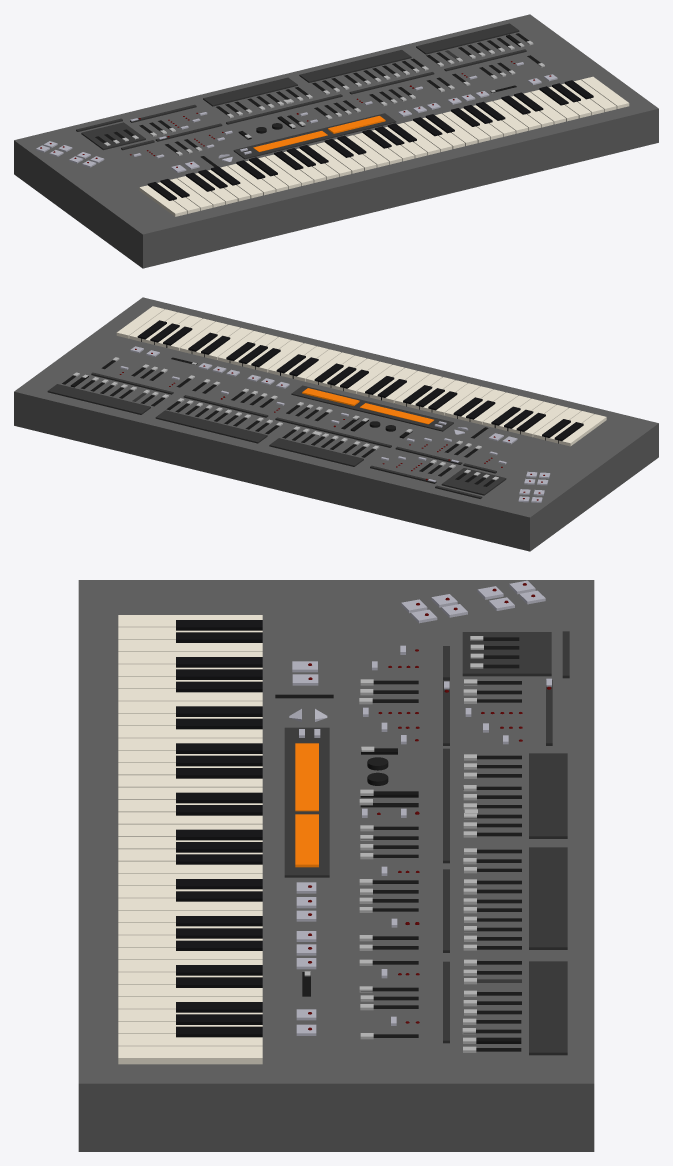
The picture shows the model from 3 angles, top to bottom: view 1: azimuth 30°, elevation 25°; view 2: azimuth 150°, elevation 25°; view 3: azimuth 270°, elevation 25°; orthographic projection. The views are drawn at different scales.
Parts seen in each view (by area): view 1: synth_body.1, panel1.1, panel3, panel3.1, panel2, panel1, Key_C1, Key_C6, panel1.2, Key_F1, Key_F4, Key_C2 (+18 smaller); view 2: synth_body.1, panel1.1, panel3, panel3.1, panel2, panel1, Key_C1, Key_C6, panel1.2, Key_F1, Key_F4, Key_F5 (+18 smaller); view 3: synth_body.1, panel1.1, panel3, panel3.1, panel1, panel2, Key_C6, panel1.2, Key_E4, Key_E2, Key_B5, Key_E3 (+58 smaller).
Part boxes in pixels (bbox=[...]): synth_body.1: bbox=[14, 14, 658, 268]; panel1.1: bbox=[233, 113, 396, 159]; panel3: bbox=[299, 50, 411, 82]; panel3.1: bbox=[416, 23, 519, 54]; panel2: bbox=[203, 77, 297, 106]; panel1: bbox=[81, 122, 145, 150]; Key_C1: bbox=[139, 185, 187, 216]; Key_C6: bbox=[581, 76, 629, 108]; panel1.2: bbox=[253, 131, 327, 151]; Key_F1: bbox=[177, 176, 225, 207]; Key_F4: bbox=[442, 111, 490, 142]; Key_C2: bbox=[227, 164, 275, 195]; synth_body.1: bbox=[14, 297, 658, 551]; panel1.1: bbox=[291, 385, 453, 431]; panel3: bbox=[155, 410, 267, 443]; panel3.1: bbox=[47, 384, 150, 414]; panel2: bbox=[269, 438, 363, 466]; panel1: bbox=[441, 468, 506, 495]; Key_C1: bbox=[558, 414, 606, 446]; Key_C6: bbox=[116, 306, 164, 338]; panel1.2: bbox=[360, 403, 433, 424]; Key_F1: bbox=[520, 405, 568, 437]; Key_F4: bbox=[255, 340, 303, 372]; Key_F5: bbox=[167, 318, 215, 350]; synth_body.1: bbox=[78, 580, 594, 1151]; panel1.1: bbox=[284, 727, 329, 877]; panel3: bbox=[529, 847, 567, 949]; panel3.1: bbox=[529, 961, 567, 1055]; panel1: bbox=[462, 632, 551, 676]; panel2: bbox=[529, 753, 567, 838]; Key_C6: bbox=[118, 1046, 262, 1064]; panel1.2: bbox=[295, 743, 318, 811]; Key_E4: bbox=[118, 898, 262, 910]; Key_E2: bbox=[118, 726, 262, 738]; Key_B5: bbox=[118, 1034, 262, 1046]; Key_E3: bbox=[118, 812, 262, 824].
Size of what is drawn, in the model's own units: 7.96 by 0.976 by 3.44.
